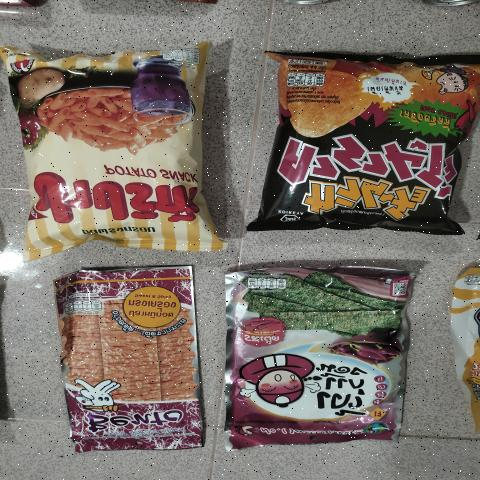bento_red: (68, 265, 206, 460)
karamujo: (256, 52, 460, 225)
paprika: (21, 50, 214, 246)
taokaenoi: (232, 272, 417, 448)
